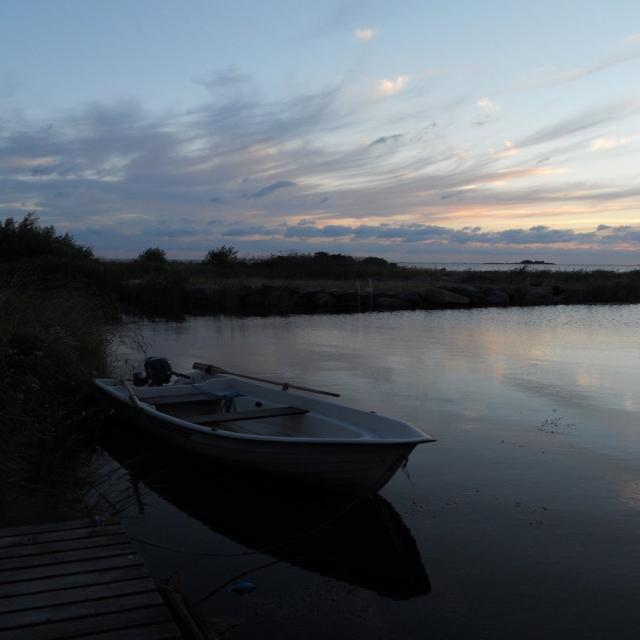Boat: (67, 344, 467, 529)
